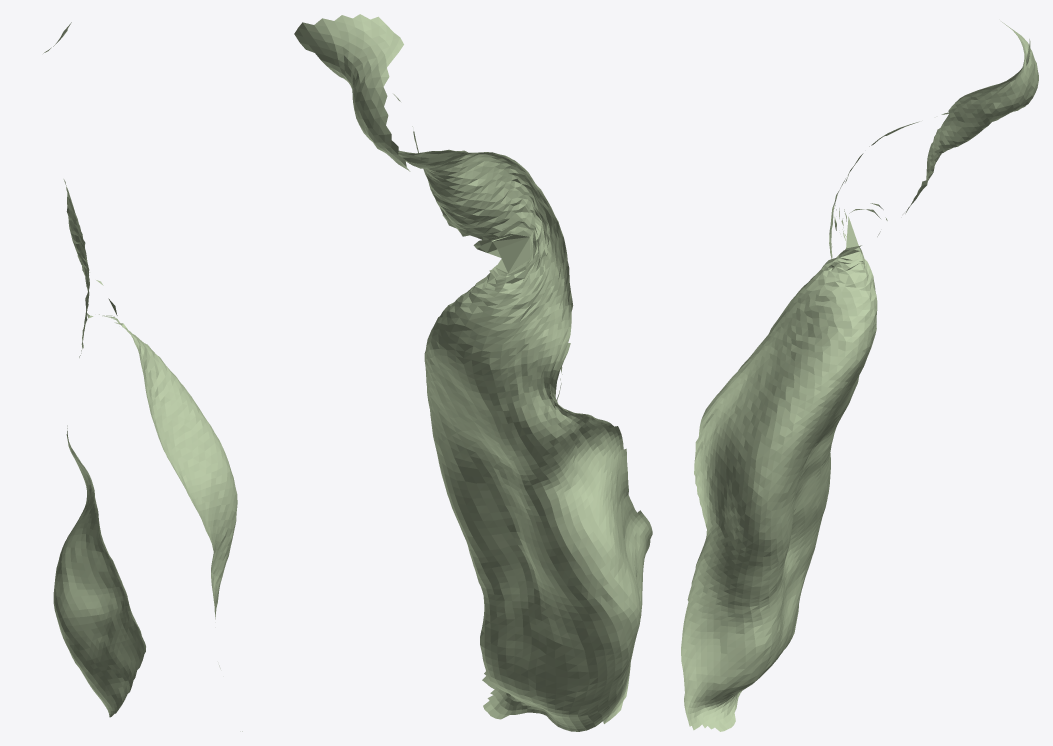
The model's file is lh_fusiform.glb.
The picture shows the model from 3 angles, left to right: view 1: azimuth 30°, elevation 25°; view 2: azimuth 150°, elevation 25°; view 3: azimuth 270°, elevation 25°; orthographic projection. The views are drawn at different scales.
Parts seen in each view (by area): view 1: world; view 2: world; view 3: world.
Part boxes in pixels (x1,y1,x2,y2): world: (43,22,242,731); world: (294,14,652,731); world: (681,21,1038,731).
Size of the model in its own units: 23.7 by 87.06 by 40.46.
